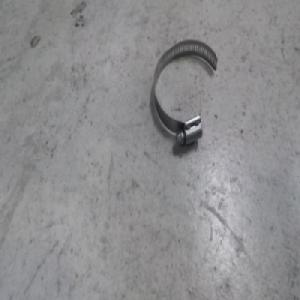AdjustableClamp: (150, 35, 220, 143)
